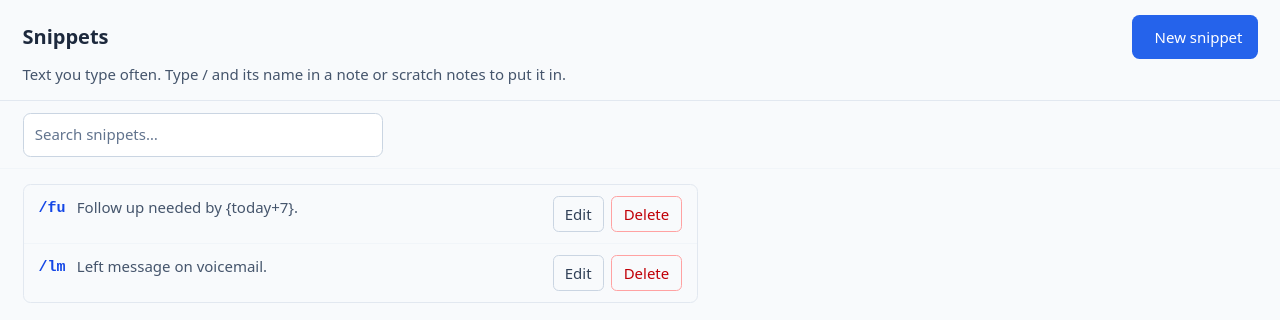
it: SnippetsView › filters snippets by search input
Expected: the text "/lm" is shown, x1=38 y1=257 x2=66 y2=280
Expected: the text "/fu" is shown, x1=38 y1=198 x2=66 y2=220
Type "voicemail" into the search field with placeholder "Search snippets…".
click(202, 134); type("voicemail")  # box x1=22 y1=112 x2=382 y2=156
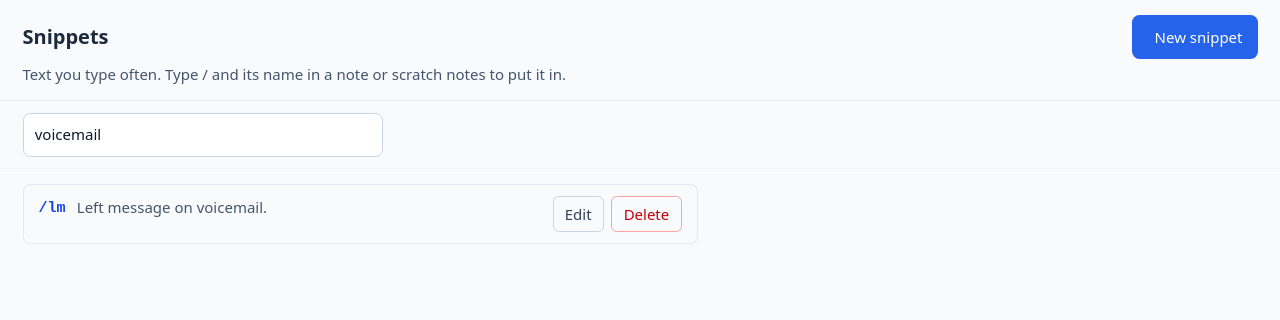
Expected: the text "/lm" is shown, x1=38 y1=198 x2=66 y2=220
Expected: the text "/fu" is gone
